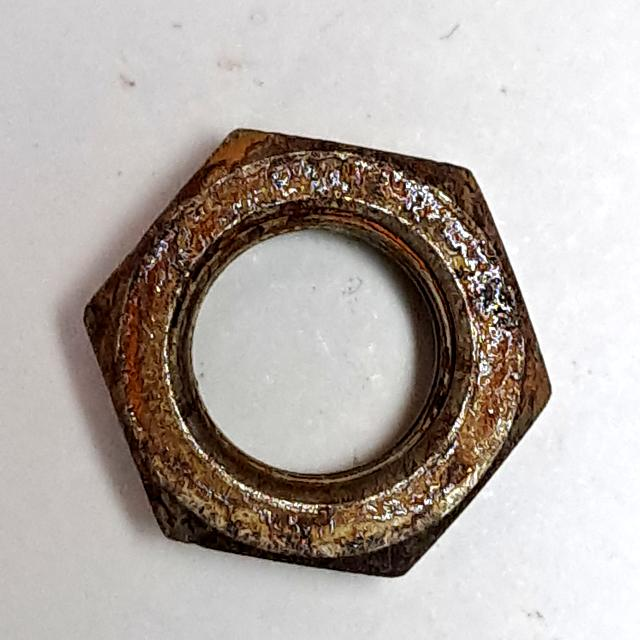Rust: (72, 124, 564, 594)
